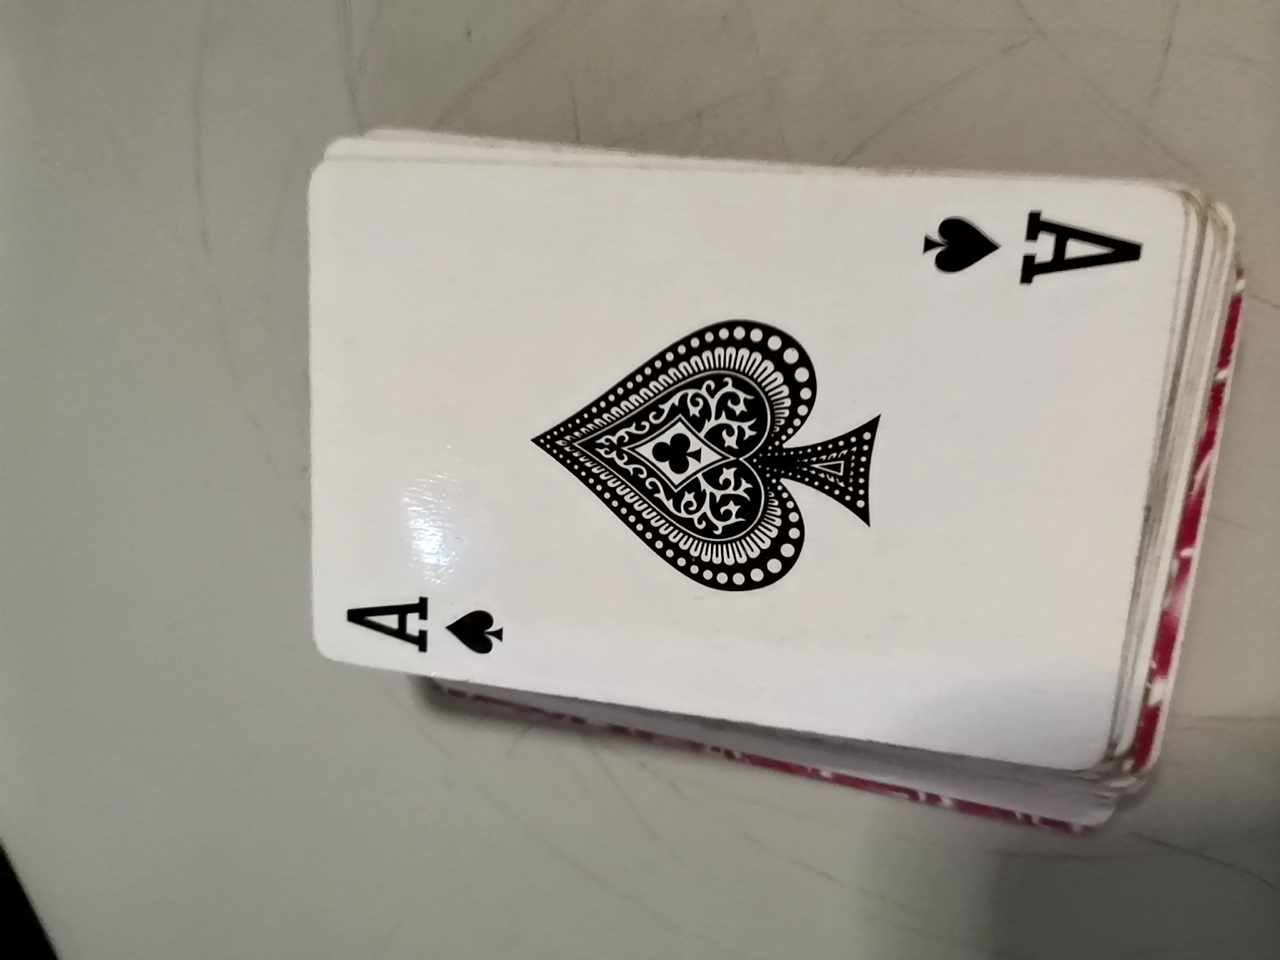ht a: (284, 154, 1179, 804)
